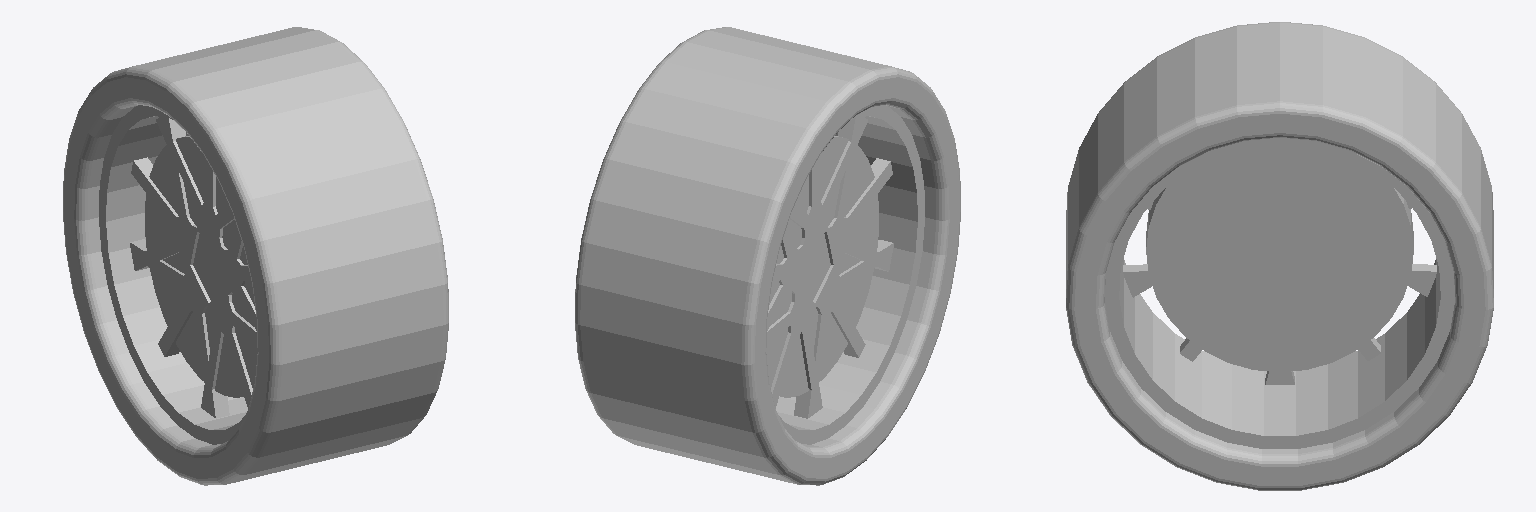
Rendered from rfd.obj.
The picture shows the model from 3 angles: view 1: azimuth 30°, elevation 25°; view 2: azimuth 150°, elevation 25°; view 3: azimuth 270°, elevation 25°; orthographic projection.
Parts seen in each view (by area): view 1: rfd; view 2: rfd; view 3: rfd.
Part boxes in pixels (x1,y1,x2,y2): rfd: (63,27,448,485); rfd: (575,27,960,485); rfd: (1066,22,1493,490).
Bounding box in the file's own units: 0.4882 × 1.01 × 1.01.